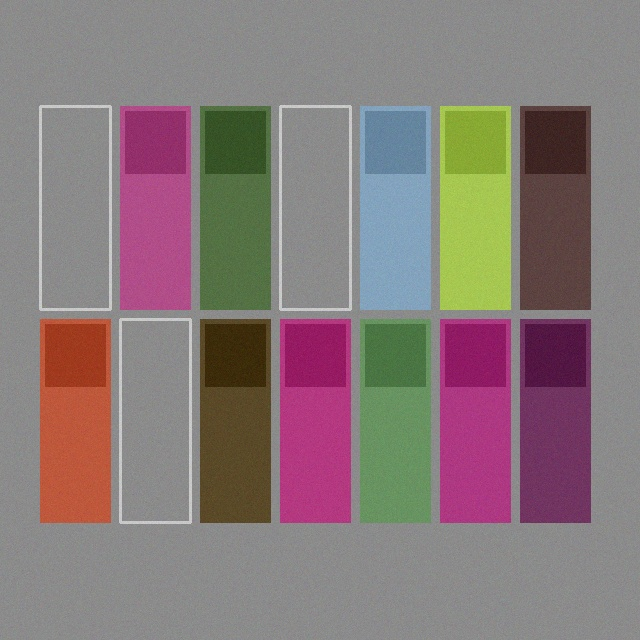space-empty: (40, 106, 110, 309), (280, 106, 350, 309), (120, 319, 190, 522)
space-occupied: (120, 106, 190, 309), (200, 106, 270, 309), (360, 106, 430, 309), (440, 106, 510, 309), (520, 106, 590, 309), (40, 319, 110, 522), (200, 319, 270, 522), (280, 319, 350, 522), (360, 319, 430, 522), (440, 319, 510, 522), (520, 319, 590, 522)
